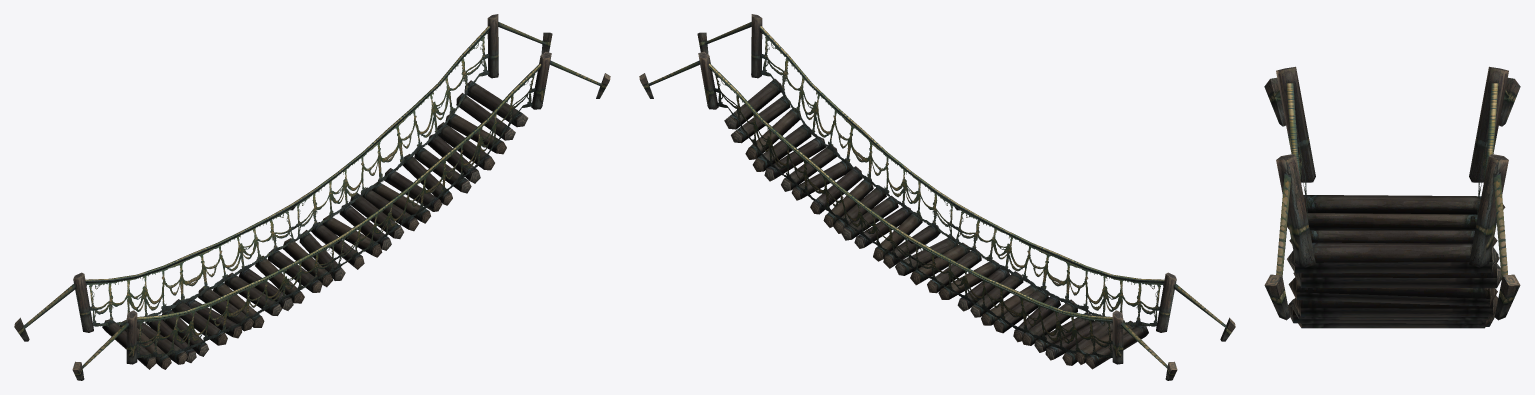
Rendered from cave_bridge_tansition_03.fbx.
3 views of the same model, side by side, from view 1: azimuth 30°, elevation 25°; view 2: azimuth 150°, elevation 25°; view 3: azimuth 270°, elevation 25° (orthographic). The views are drawn at different scales.
Visible parts, largest first — view 1: cave_tileset/bridge01_shadow; view 2: cave_tileset/bridge01_shadow; view 3: cave_tileset/bridge01_shadow.
Part boxes in pixels (x1,y1,x2,y2): cave_tileset/bridge01_shadow: (14, 14, 610, 380); cave_tileset/bridge01_shadow: (639, 14, 1235, 380); cave_tileset/bridge01_shadow: (1264, 66, 1520, 328).
Bounding box in the file's own units: 19.9 × 8 × 4.1.
